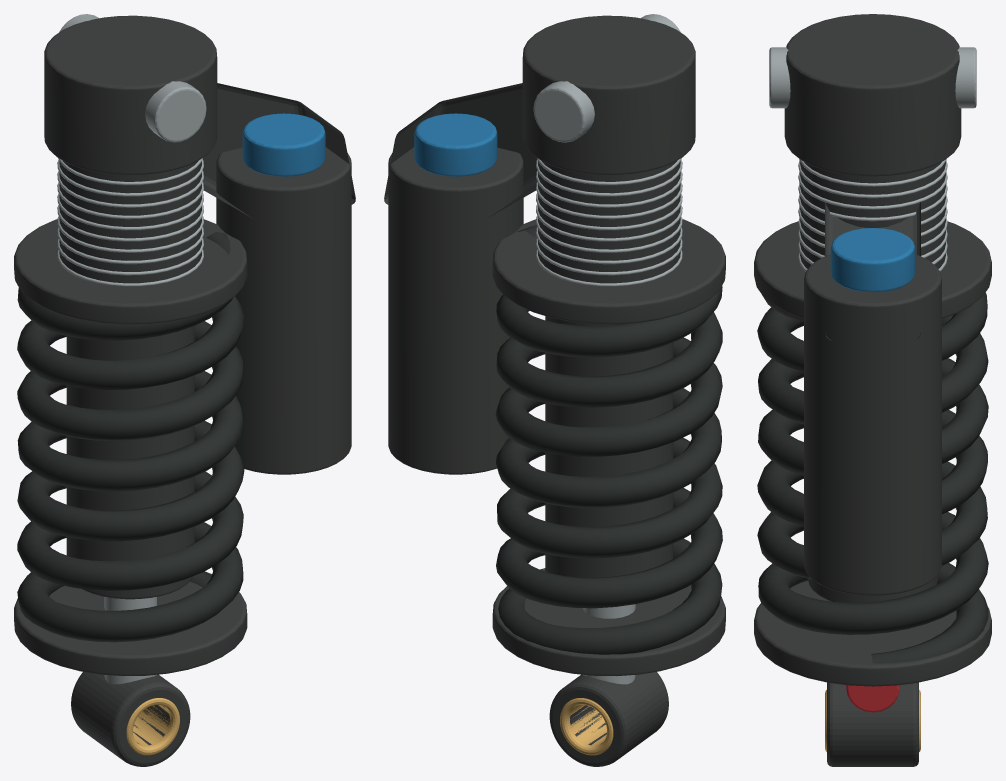
Rendered from marzocchi-bomber-cr--2c3aa0bb.glb.
The picture shows the model from 3 angles, left to right: view 1: azimuth 30°, elevation 25°; view 2: azimuth 150°, elevation 25°; view 3: azimuth 270°, elevation 25°; orthographic projection.
Visible parts, largest first — view 1: marzocchi-bomber-cr--2c3aa0bb__link, marzocchi-bomber-cr--2c3aa0bb__coil, marzocchi-bomber-cr--2c3aa0bb__bolts, marzocchi-bomber-cr--2c3aa0bb__adjuster, marzocchi-bomber-cr--2c3aa0bb__stanchions; view 2: marzocchi-bomber-cr--2c3aa0bb__link, marzocchi-bomber-cr--2c3aa0bb__coil, marzocchi-bomber-cr--2c3aa0bb__bolts, marzocchi-bomber-cr--2c3aa0bb__adjuster, marzocchi-bomber-cr--2c3aa0bb__stanchions; view 3: marzocchi-bomber-cr--2c3aa0bb__link, marzocchi-bomber-cr--2c3aa0bb__coil, marzocchi-bomber-cr--2c3aa0bb__bolts, marzocchi-bomber-cr--2c3aa0bb__adjuster, marzocchi-bomber-cr--2c3aa0bb__rebound.
Boxes of the visible parts, box(x1,y1,x2,y2) form: marzocchi-bomber-cr--2c3aa0bb__link: box(14, 15, 355, 766); marzocchi-bomber-cr--2c3aa0bb__coil: box(17, 231, 244, 642); marzocchi-bomber-cr--2c3aa0bb__bolts: box(57, 14, 206, 684); marzocchi-bomber-cr--2c3aa0bb__adjuster: box(242, 113, 325, 176); marzocchi-bomber-cr--2c3aa0bb__stanchions: box(126, 698, 179, 755); marzocchi-bomber-cr--2c3aa0bb__link: box(384, 15, 725, 766); marzocchi-bomber-cr--2c3aa0bb__coil: box(495, 225, 722, 654); marzocchi-bomber-cr--2c3aa0bb__bolts: box(533, 14, 682, 684); marzocchi-bomber-cr--2c3aa0bb__adjuster: box(414, 113, 497, 176); marzocchi-bomber-cr--2c3aa0bb__stanchions: box(560, 698, 613, 755); marzocchi-bomber-cr--2c3aa0bb__link: box(754, 14, 991, 766); marzocchi-bomber-cr--2c3aa0bb__coil: box(757, 292, 988, 663); marzocchi-bomber-cr--2c3aa0bb__bolts: box(769, 47, 976, 271); marzocchi-bomber-cr--2c3aa0bb__adjuster: box(830, 228, 915, 292); marzocchi-bomber-cr--2c3aa0bb__rebound: box(846, 685, 899, 712).
Size of the model in its own units: 0.096 by 0.205 by 0.062.
